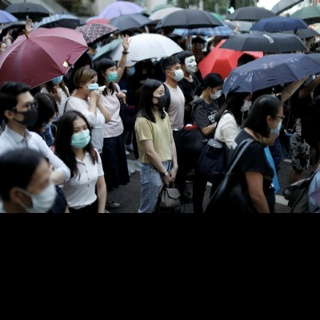with_mask: (27, 175, 58, 213), (16, 99, 39, 126), (70, 123, 91, 149), (272, 113, 284, 137), (153, 89, 168, 108), (185, 57, 199, 75), (85, 79, 99, 95), (106, 67, 118, 84), (172, 65, 184, 82), (241, 96, 252, 112), (211, 86, 223, 100)
